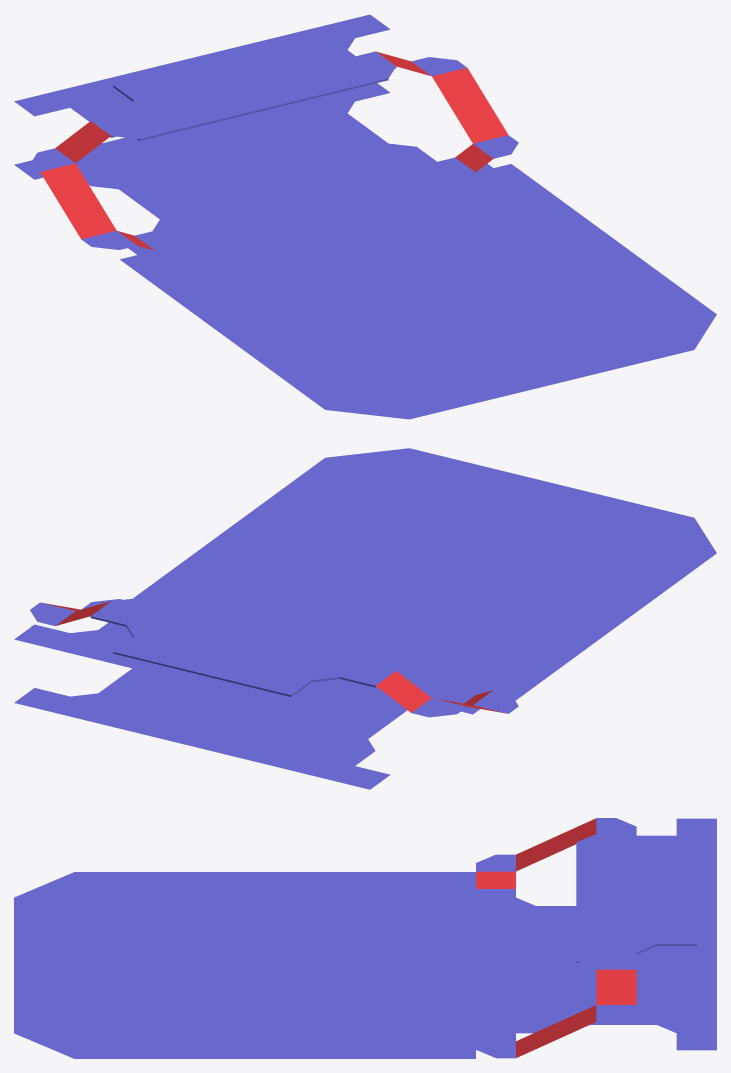
Rendered from Encounter_003_Floor.fbx.
3 views of the same model, one above another, from view 1: azimuth 30°, elevation 25°; view 2: azimuth 150°, elevation 25°; view 3: azimuth 270°, elevation 25° (orthographic). The views are drawn at different scales.
Visible parts, largest first — view 1: Encounter_003_Floor; view 2: Encounter_003_Floor; view 3: Encounter_003_Floor.
Boxes of the visible parts, left/top/right/bottom form: Encounter_003_Floor: left=14, top=14, right=716, bottom=419; Encounter_003_Floor: left=14, top=448, right=716, bottom=789; Encounter_003_Floor: left=14, top=818, right=716, bottom=1058.
Bounding box in the file's own units: 4800 × 700 × 7000.
